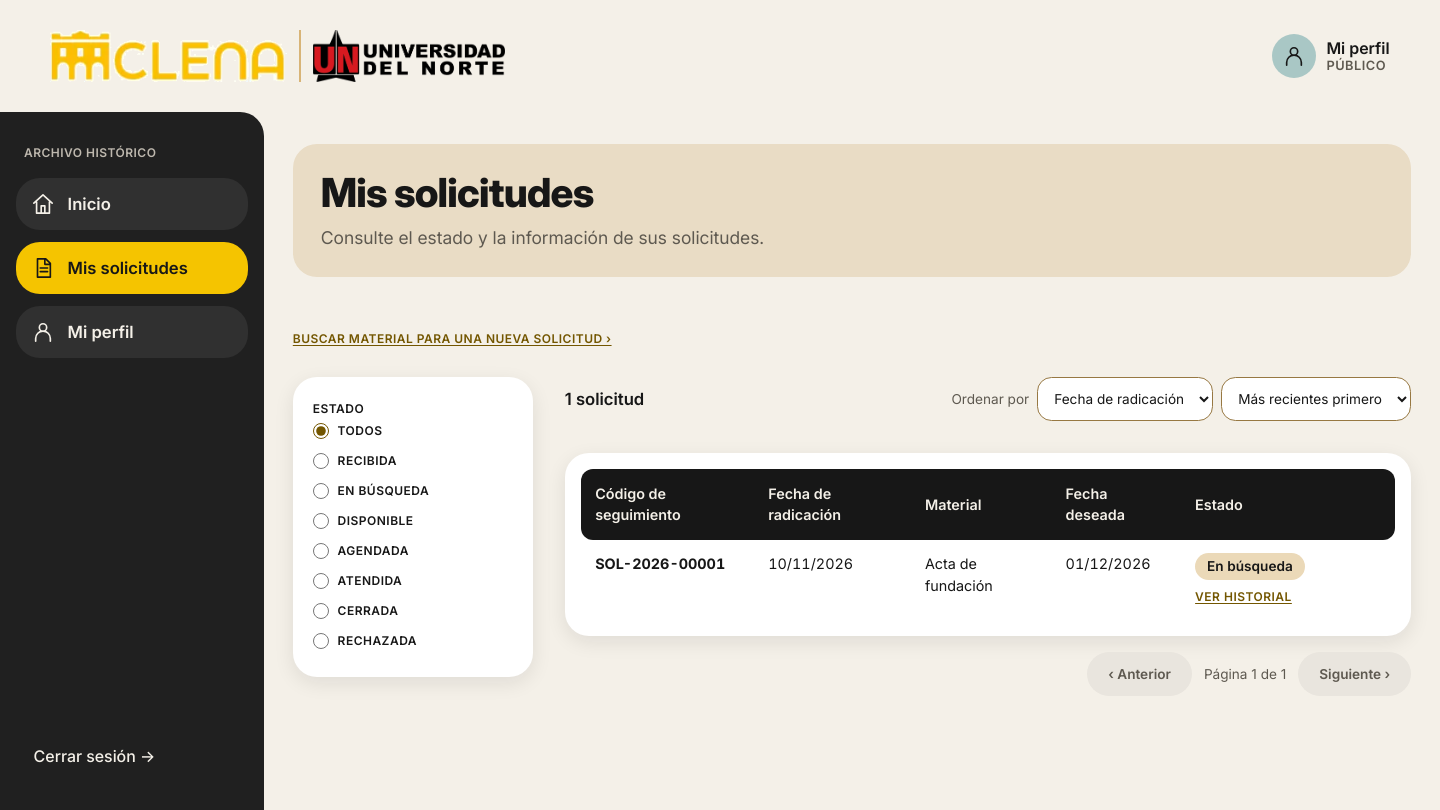
Scenario: MyRequestsPage › status history (HU-17) › shows a clear message when the history is not theirs (403)
What coordinates should you click on to do the following:
click the button with aria-label "Ver historial de SOL-2026-00001"
I would click on:
 (1243, 597)
Its box is [1195,588,1292,606].
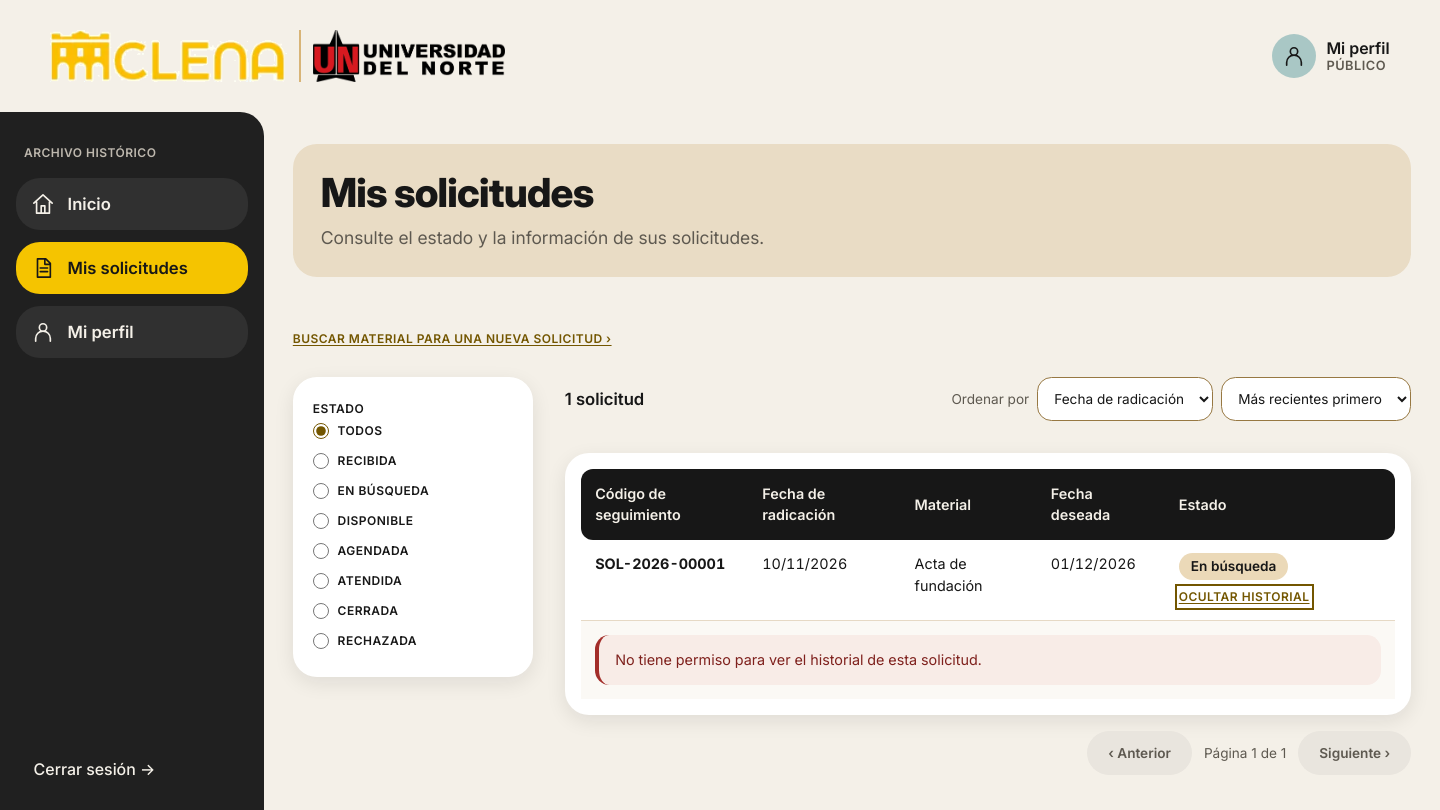
Check: the message reads "No tiene permiso para ver el historial de esta solicitud.", box [615,651,982,668]
